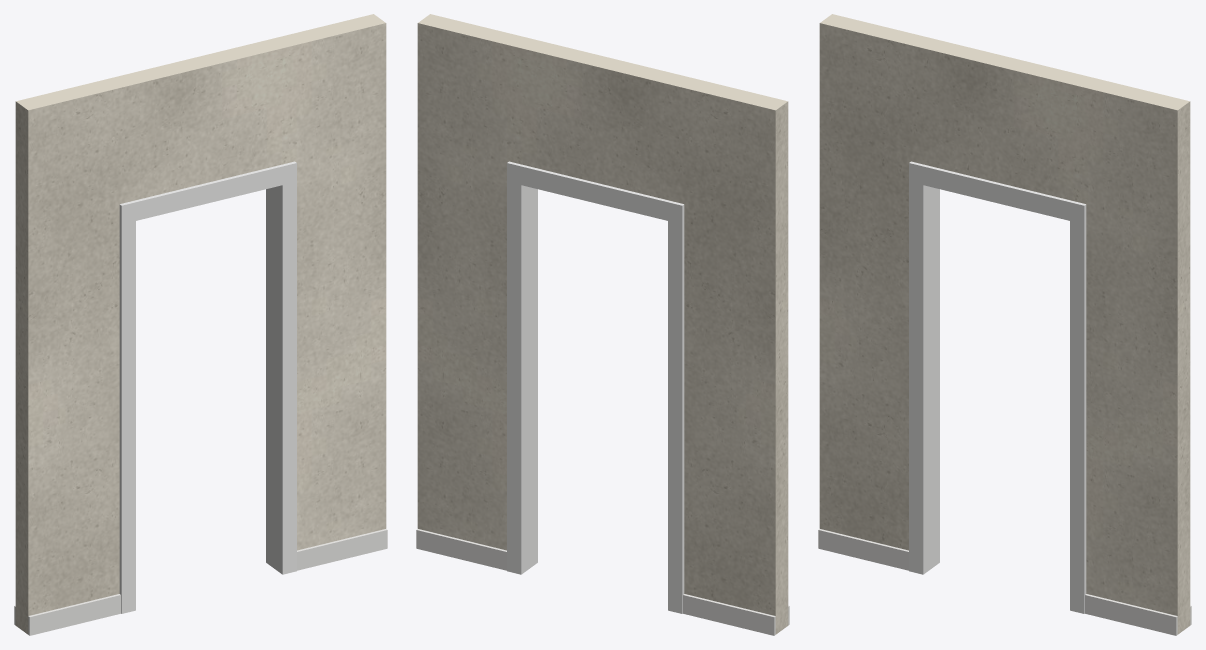
Rendered from interior_wall_doorway.glb.
3 views of the same model, side by side, from view 1: azimuth 30°, elevation 25°; view 2: azimuth 150°, elevation 25°; view 3: azimuth 330°, elevation 25° (orthographic).
Visible parts, largest first — view 1: interior_wall_doorway_plaster, interior_wall_doorway_frame, interior_wall_doorway_trim; view 2: interior_wall_doorway_plaster, interior_wall_doorway_frame, interior_wall_doorway_trim; view 3: interior_wall_doorway_plaster, interior_wall_doorway_frame, interior_wall_doorway_trim.
Part boxes in pixels (left/top/right/bottom): interior_wall_doorway_plaster: left=15, top=14, right=386, bottom=634; interior_wall_doorway_frame: left=119, top=161, right=296, bottom=613; interior_wall_doorway_trim: left=14, top=529, right=387, bottom=635; interior_wall_doorway_plaster: left=417, top=14, right=788, bottom=634; interior_wall_doorway_frame: left=507, top=161, right=684, bottom=613; interior_wall_doorway_trim: left=416, top=529, right=789, bottom=635; interior_wall_doorway_plaster: left=819, top=14, right=1190, bottom=634; interior_wall_doorway_frame: left=909, top=161, right=1086, bottom=613; interior_wall_doorway_trim: left=818, top=529, right=1191, bottom=635.
Bounding box in the file's own units: 2 × 2.8 × 0.16.
3 materials, 1 textured.
